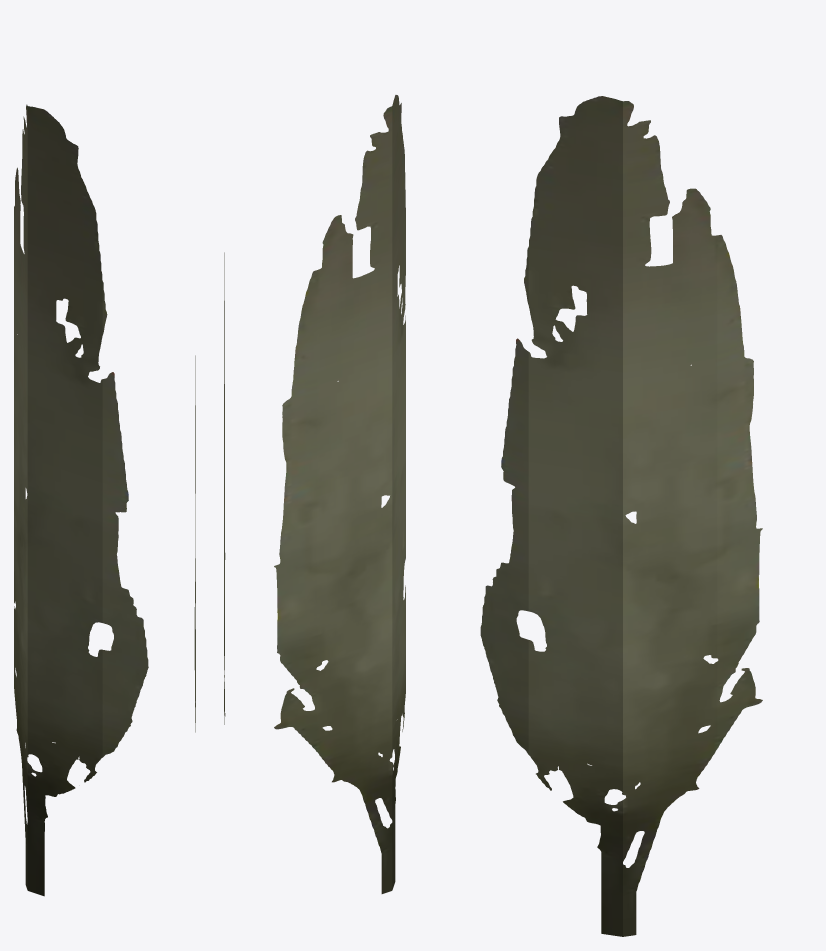
The picture shows the model from 3 angles, left to right: view 1: azimuth 30°, elevation 25°; view 2: azimuth 150°, elevation 25°; view 3: azimuth 270°, elevation 25°; orthographic projection. The views are drawn at different scales.
Visible parts, largest first — view 1: body0_model0_lod0_mesh0; view 2: body0_model0_lod0_mesh0; view 3: body0_model0_lod0_mesh0.
Part boxes in pixels (x1,y1,x2,y2): body0_model0_lod0_mesh0: (14,104,195,896); body0_model0_lod0_mesh0: (224,95,405,893); body0_model0_lod0_mesh0: (480,96,762,936).
Bounding box in the file's own units: 11.71 × 58.88 × 23.84.
1 material, 1 textured.
